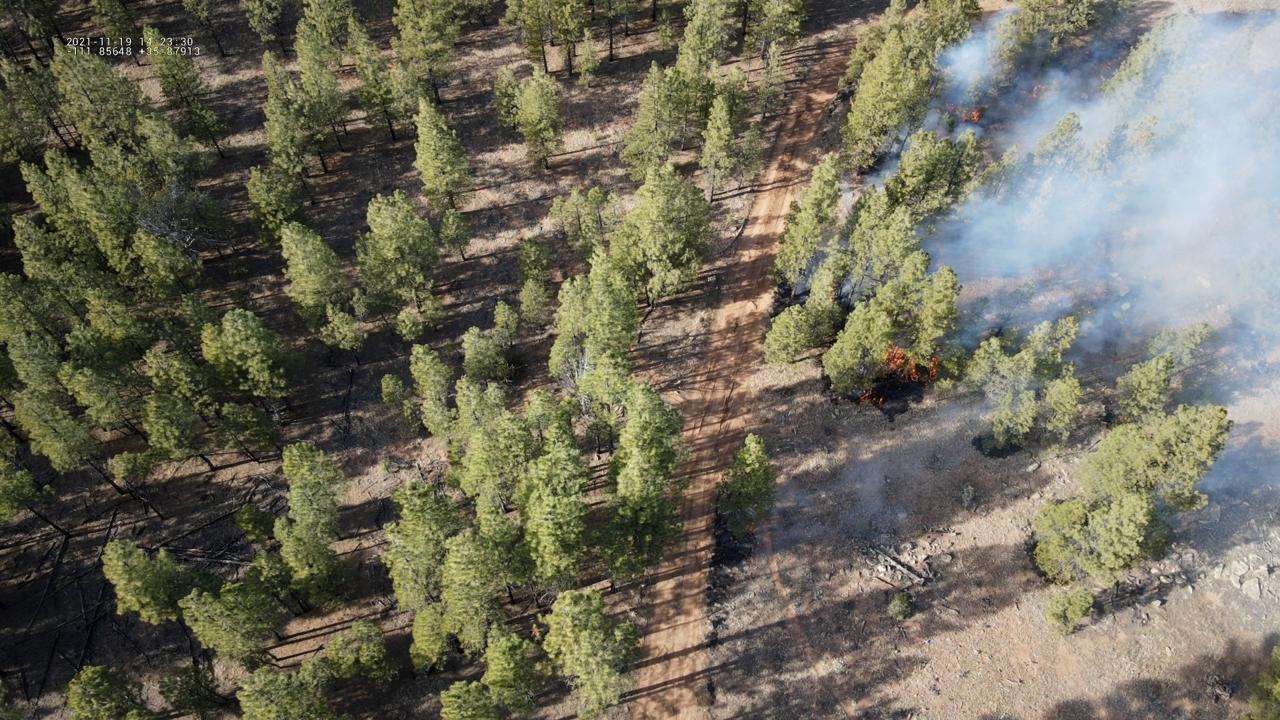fire: (882, 343, 919, 383), (943, 99, 981, 122), (1029, 82, 1047, 101), (928, 351, 938, 383), (858, 392, 871, 401), (879, 397, 883, 405)
smoke: (788, 0, 1280, 518)
